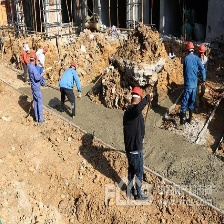person: (124, 89, 149, 198), (181, 42, 200, 125), (28, 51, 48, 122), (59, 63, 81, 118)
